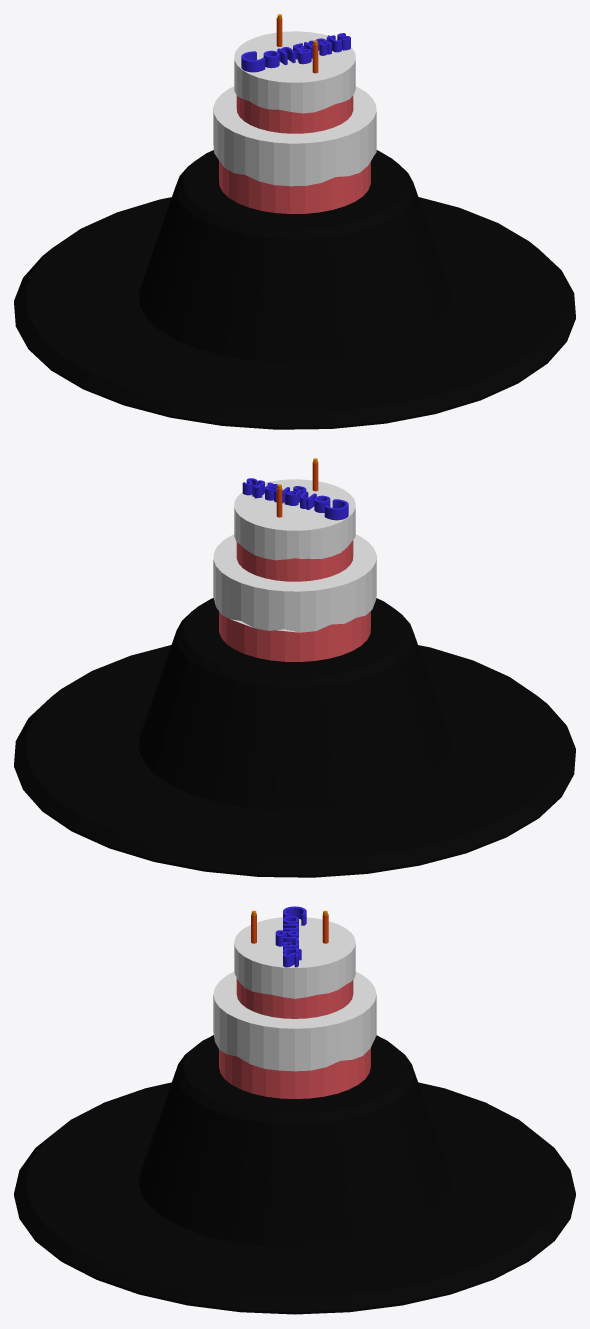
File: CongratsHat(1).fbx
3 views of the same model, one above another, from view 1: azimuth 30°, elevation 25°; view 2: azimuth 150°, elevation 25°; view 3: azimuth 270°, elevation 25° (orthographic).
Visible parts, largest first — view 1: Cylinder, Cylinder.003, Cylinder.004, Cylinder.001, Cylinder.002, Text; view 2: Cylinder, Cylinder.003, Cylinder.004, Cylinder.001, Cylinder.002, Text; view 3: Cylinder, Cylinder.003, Cylinder.004, Cylinder.001, Cylinder.002, Text.
Boxes of the visible parts, left/top/right/bottom form: Cylinder: left=14, top=150, right=575, bottom=429; Cylinder.003: left=213, top=86, right=376, bottom=186; Cylinder.004: left=234, top=31, right=355, bottom=113; Cylinder.001: left=219, top=160, right=370, bottom=213; Cylinder.002: left=236, top=95, right=353, bottom=133; Text: left=241, top=33, right=350, bottom=72; Cylinder: left=14, top=598, right=575, bottom=877; Cylinder.003: left=213, top=534, right=376, bottom=632; Cylinder.004: left=234, top=479, right=355, bottom=560; Cylinder.001: left=219, top=611, right=370, bottom=661; Cylinder.002: left=236, top=540, right=353, bottom=581; Text: left=242, top=478, right=348, bottom=520; Cylinder: left=14, top=1035, right=575, bottom=1314; Cylinder.003: left=213, top=972, right=376, bottom=1071; Cylinder.004: left=234, top=917, right=355, bottom=998; Cylinder.001: left=219, top=1048, right=370, bottom=1098; Cylinder.002: left=236, top=978, right=353, bottom=1018; Text: left=275, top=906, right=306, bottom=967.
Size of the model in its own units: 360 by 201 by 360.
